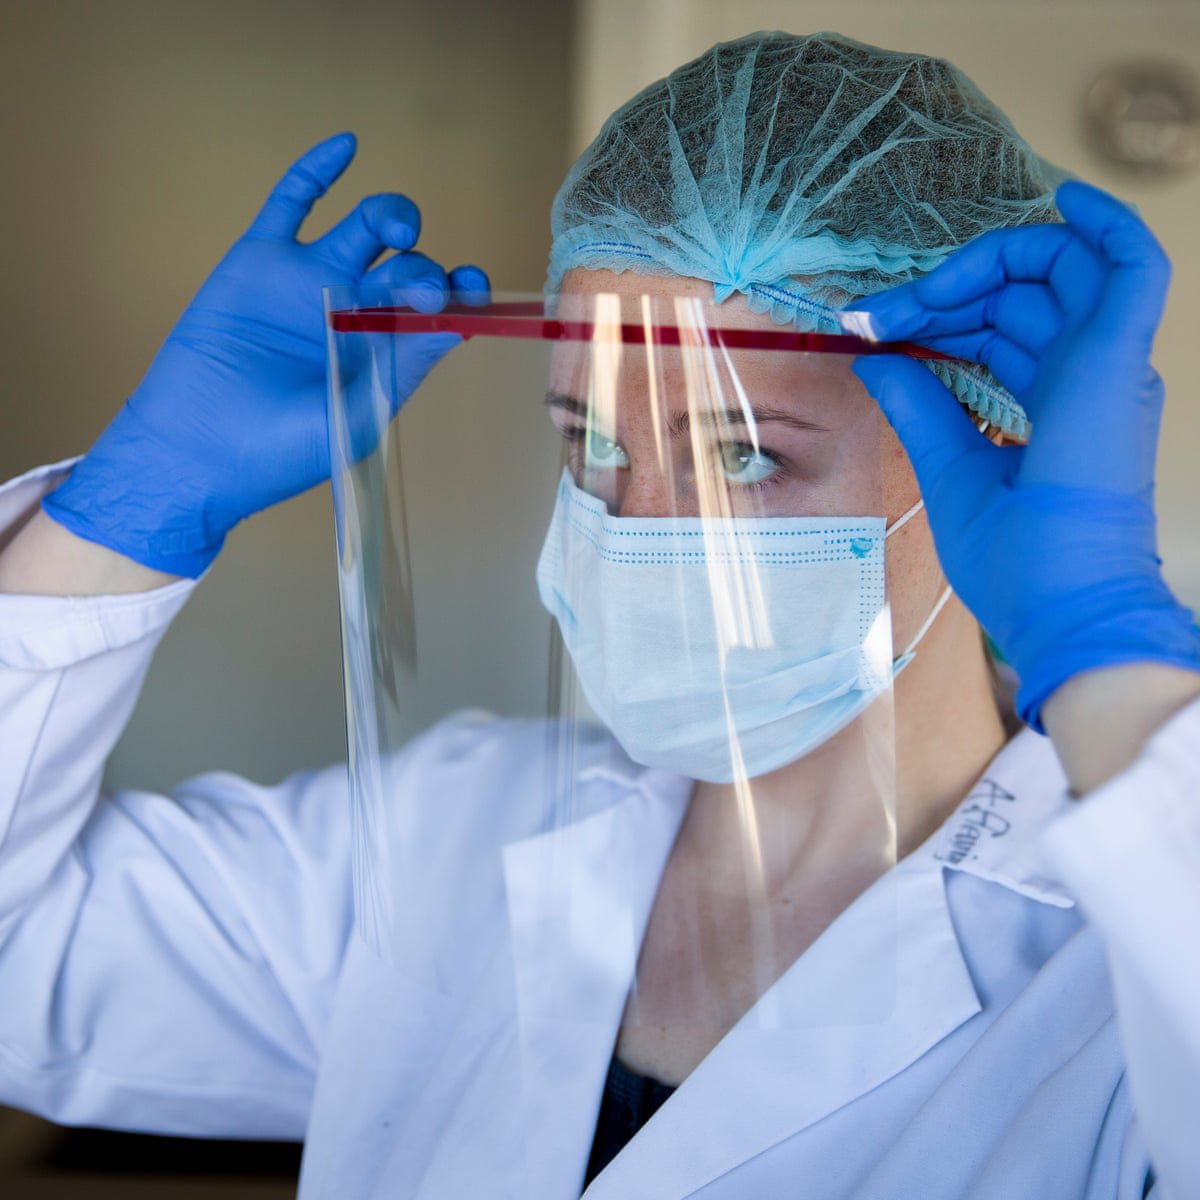Gloves: (37, 110, 491, 570), (852, 179, 1200, 697)
Mask: (521, 414, 901, 799)
